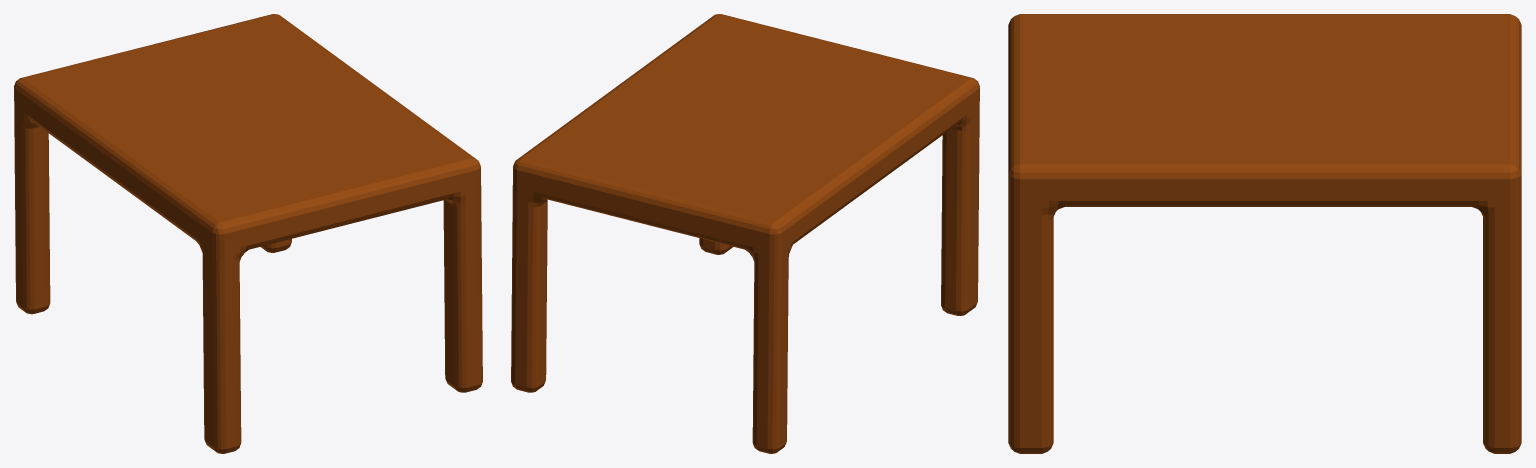
The model's file is Table.fbx.
3 renders of one model, left to right at view 1: azimuth 30°, elevation 25°; view 2: azimuth 150°, elevation 25°; view 3: azimuth 270°, elevation 25°, orthographic. The views are drawn at different scales.
Visible parts, largest first — view 1: Table; view 2: Table; view 3: Table.
Part boxes in pixels (x1,y1,x2,y2): Table: (14,14,482,453); Table: (511,14,979,453); Table: (1008,14,1521,453).
Bounding box in the file's own units: 201 × 167 × 266.
